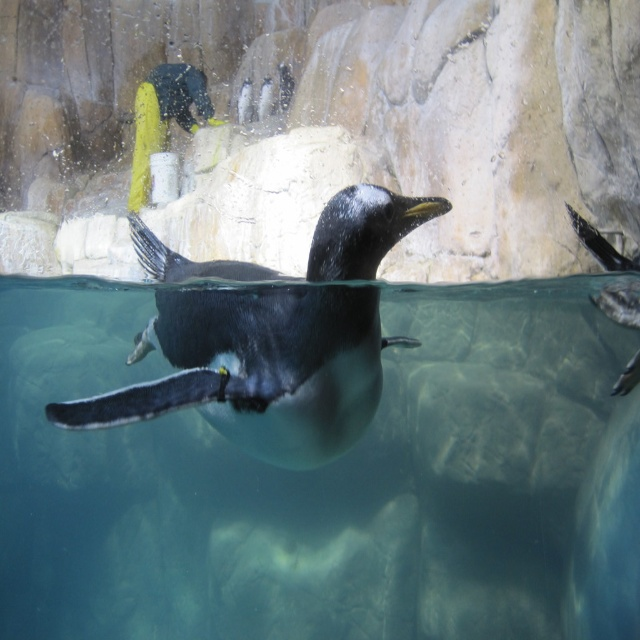Penguin: (44, 177, 453, 476)
